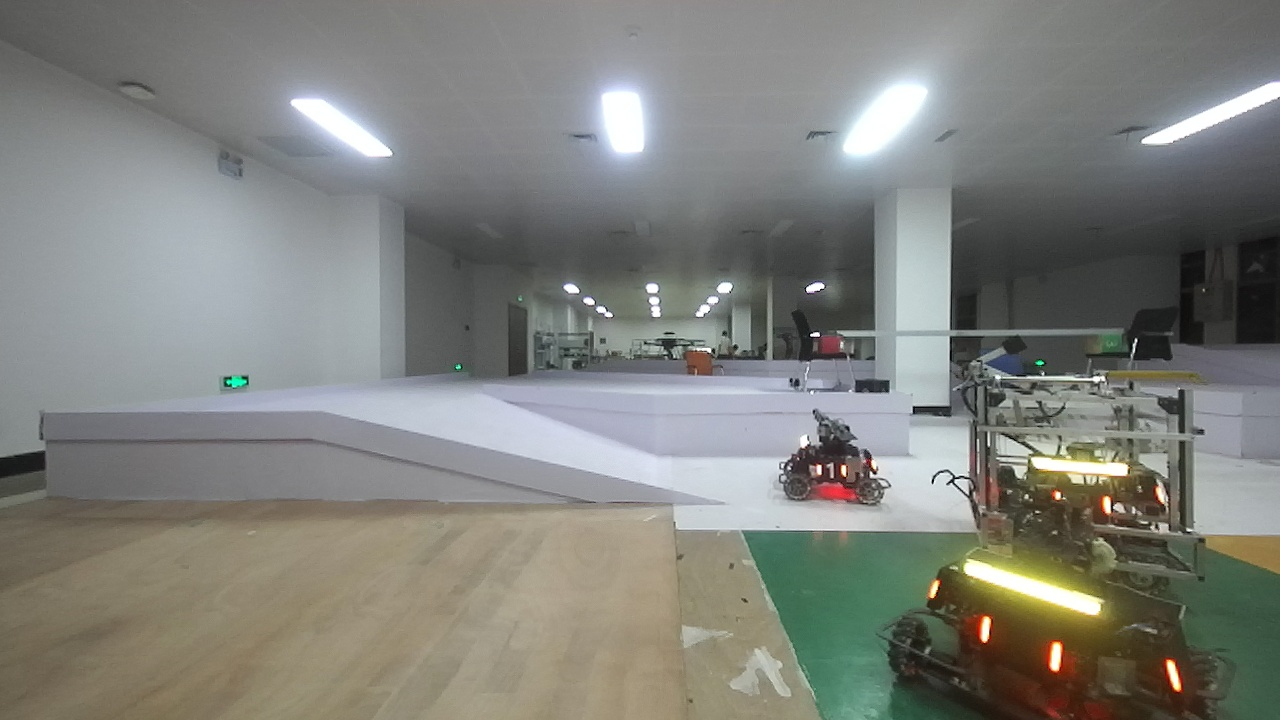car: (950, 351, 1227, 580), (879, 546, 1236, 720), (780, 409, 891, 519)
